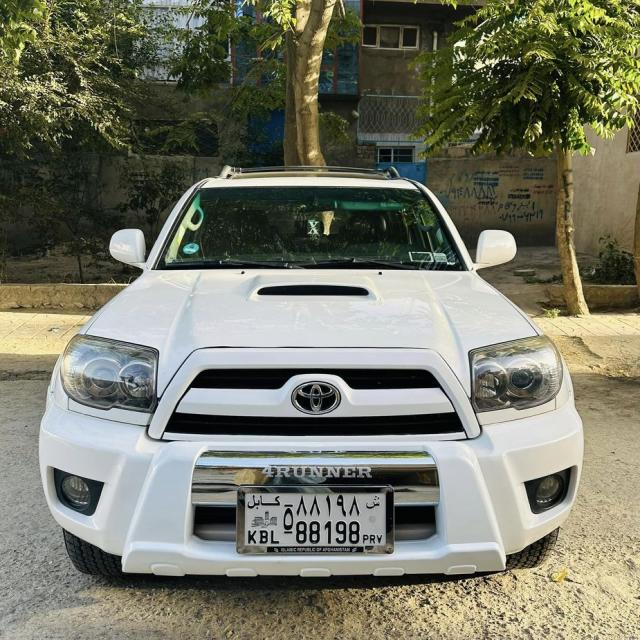Plate: (237, 483, 398, 555)
